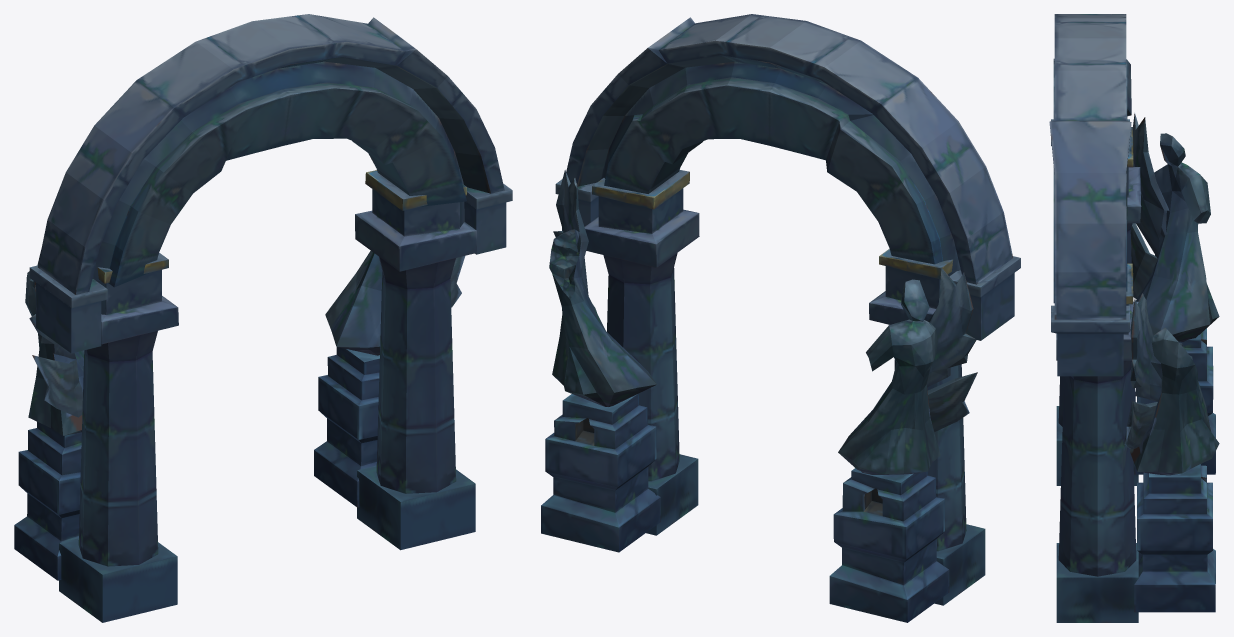
File: men.FBX
3 renders of one model, left to right at view 1: azimuth 30°, elevation 25°; view 2: azimuth 150°, elevation 25°; view 3: azimuth 270°, elevation 25°, orthographic. The views are drawn at different scales.
Visible parts, largest first — view 1: Object004; view 2: Object004; view 3: Object004.
Boxes of the visible parts, x1,y1,x2,y2 form: Object004: (14,14,512,622); Object004: (541,14,1020,622); Object004: (1049,14,1219,622).
Bounding box in the file's own units: 889 × 1018 × 315.
